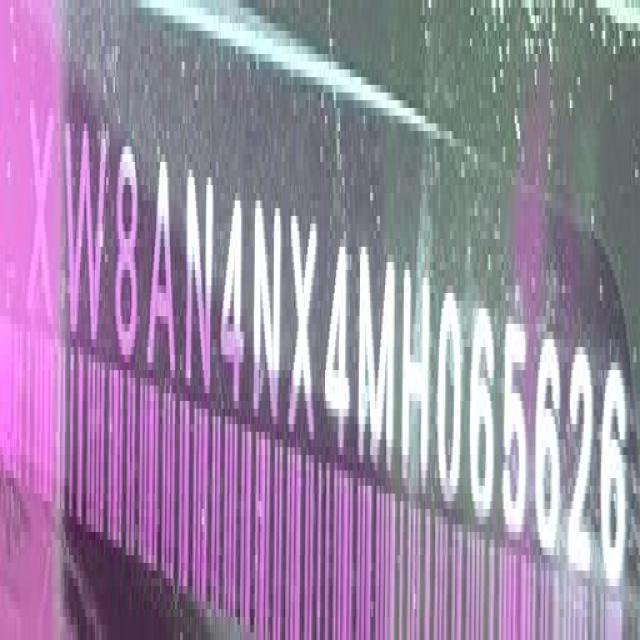0: (437, 282, 463, 507)
2: (568, 349, 596, 582)
4: (218, 182, 245, 420), (324, 228, 351, 462)
5: (505, 312, 531, 539), (535, 332, 561, 556)
6: (603, 356, 631, 596), (470, 294, 498, 523)
8: (116, 147, 140, 370)
A: (147, 156, 174, 388)
H: (402, 264, 432, 496)
M: (361, 237, 398, 480)
N: (252, 192, 284, 426), (184, 163, 211, 403)
W: (63, 110, 105, 348)
X: (26, 103, 56, 334), (292, 202, 320, 446)
